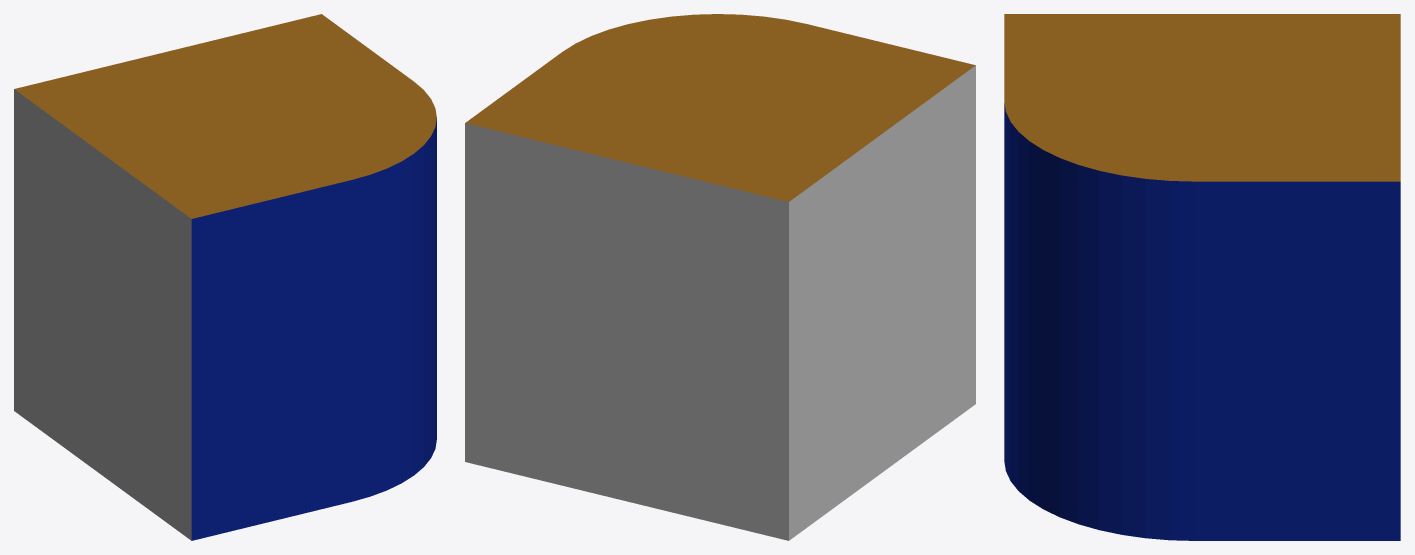
The model's file is case_1.fbx.
3 views of the same model, side by side, from view 1: azimuth 30°, elevation 25°; view 2: azimuth 150°, elevation 25°; view 3: azimuth 270°, elevation 25° (orthographic). The views are drawn at different scales.
Parts seen in each view (by area): view 1: case_1; view 2: case_1; view 3: case_1.
Boxes of the visible parts, x1,y1,x2,y2 form: case_1: (14,14,436,540); case_1: (465,14,975,540); case_1: (1004,14,1400,540).
Size of the model in its own units: 50 by 50 by 50.
